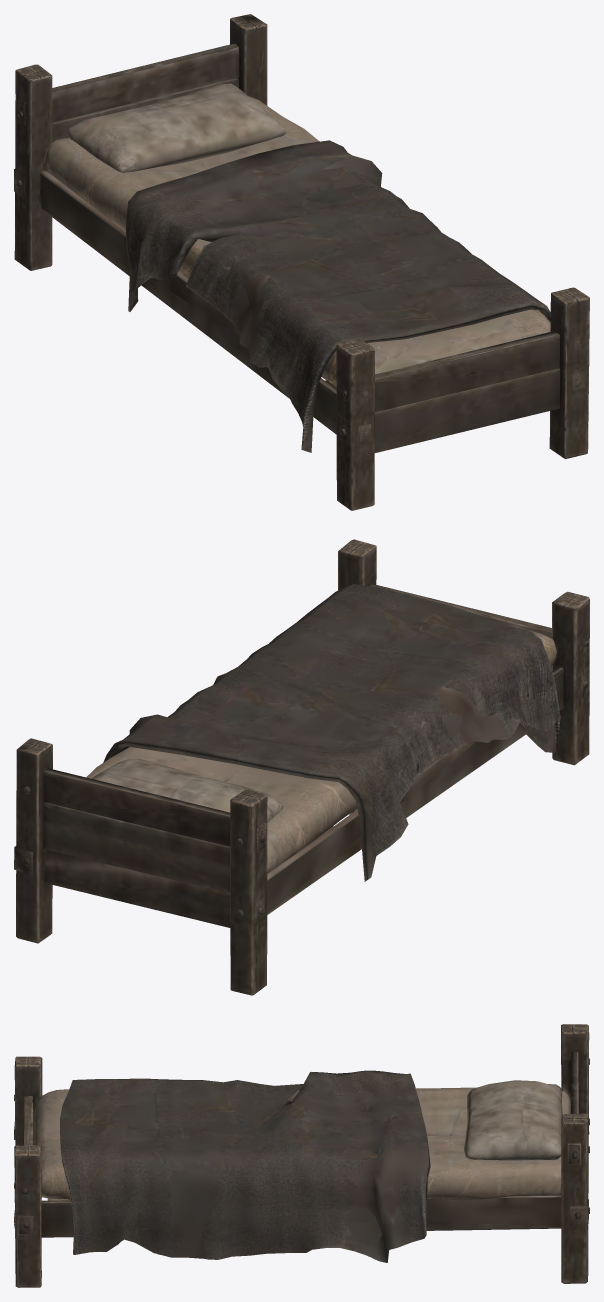
The model's file is d_bed_decorated.glb.
3 views of the same model, one above another, from view 1: azimuth 30°, elevation 25°; view 2: azimuth 150°, elevation 25°; view 3: azimuth 270°, elevation 25° (orthographic). The views are drawn at different scales.
Parts seen in each view (by area): view 1: d_bed_decorated; view 2: d_bed_decorated; view 3: d_bed_decorated.
Part boxes in pixels (bbox=[...]): d_bed_decorated: bbox=[14, 14, 589, 510]; d_bed_decorated: bbox=[14, 539, 589, 995]; d_bed_decorated: bbox=[14, 1024, 589, 1287].
Bounding box in the file's own units: 1.44 × 0.979 × 3.06.
Materials: 1 (1 with a texture image).
